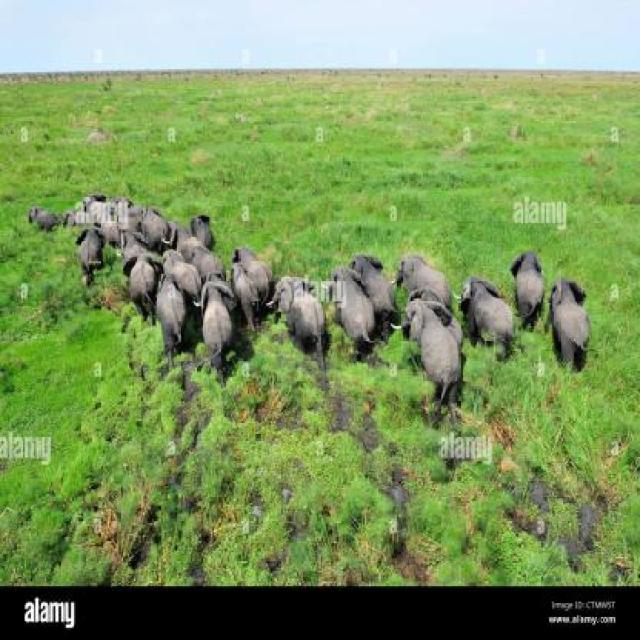elephant: (392, 285, 468, 410), (544, 278, 618, 369), (273, 270, 336, 364), (312, 268, 374, 360), (344, 231, 402, 326), (237, 239, 289, 324), (458, 279, 516, 353), (196, 277, 241, 372), (397, 245, 454, 306), (114, 181, 169, 244), (502, 237, 547, 312), (172, 229, 231, 286), (77, 184, 128, 244), (63, 218, 115, 276), (158, 242, 212, 293), (144, 290, 184, 345), (128, 232, 154, 303), (178, 207, 215, 248), (22, 197, 64, 231)
